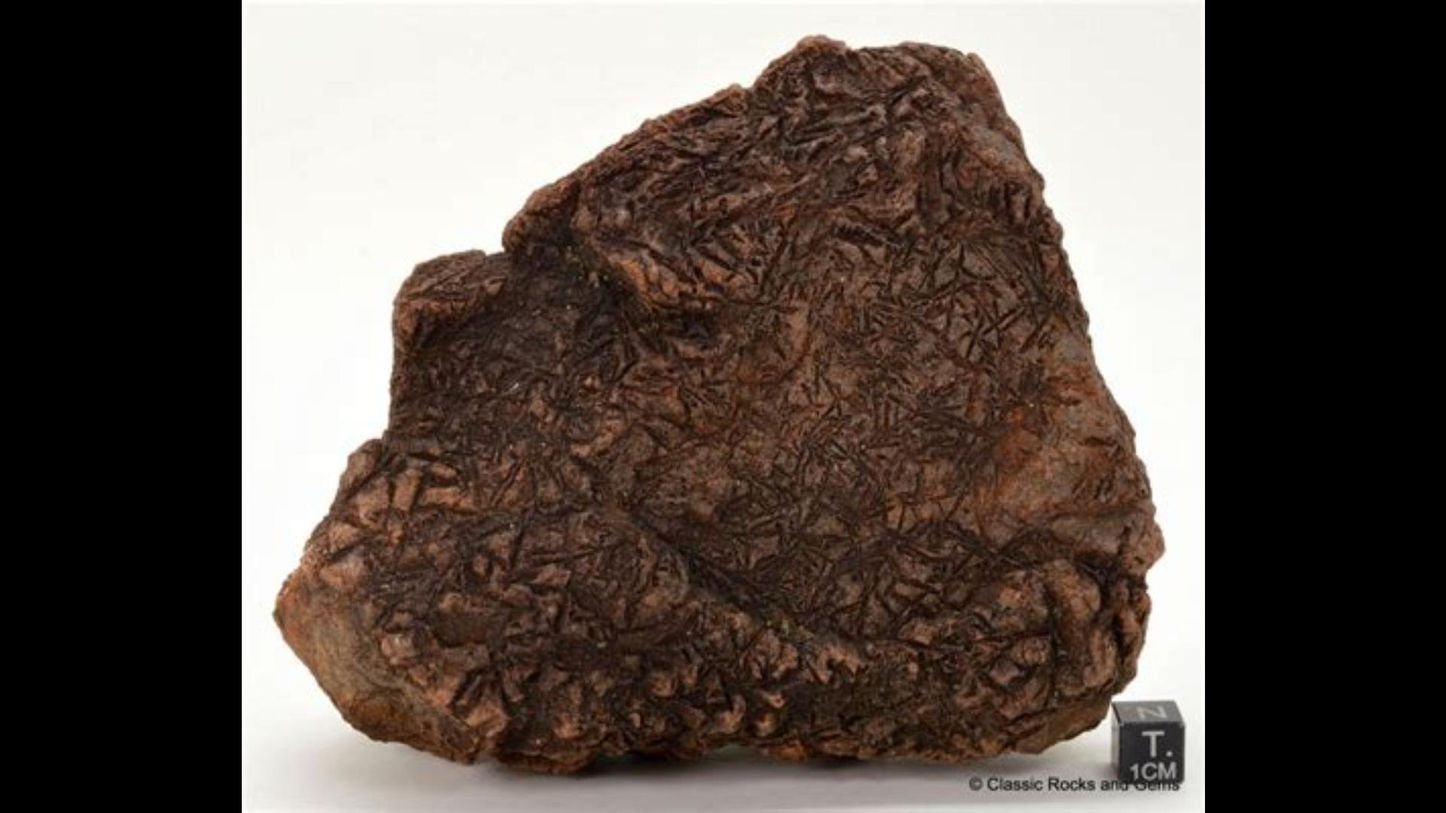rock: (276, 39, 1160, 770)
